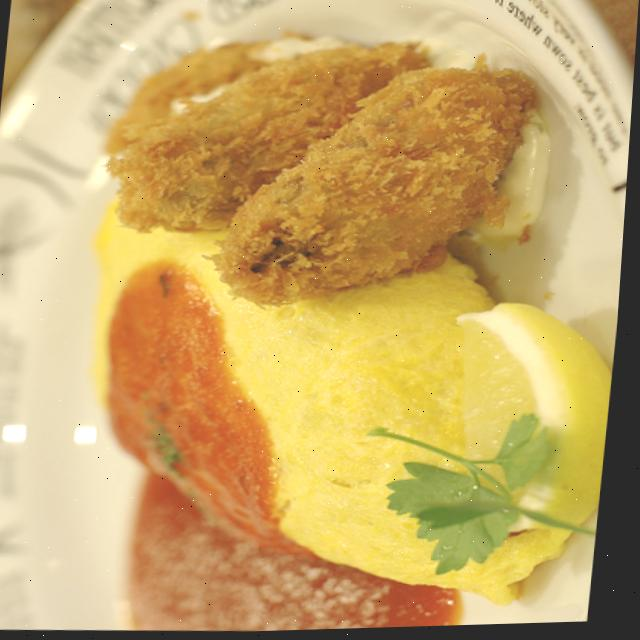鸡蛋料理: (0, 157, 631, 616)
